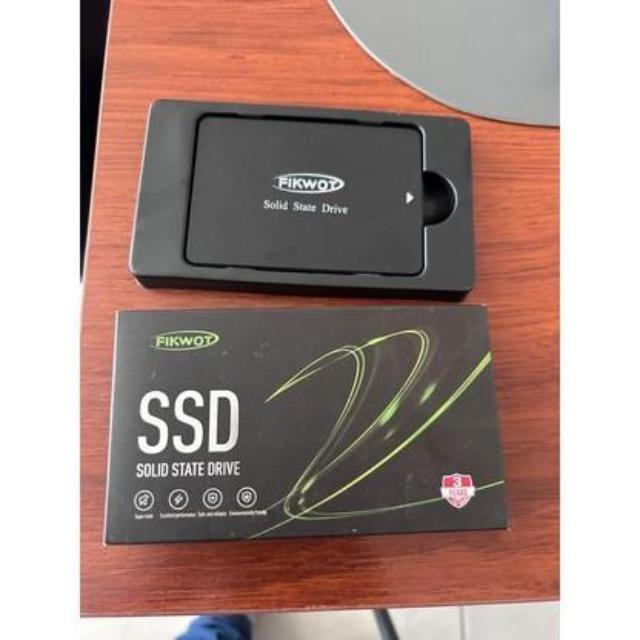DISK: (180, 113, 426, 273)
